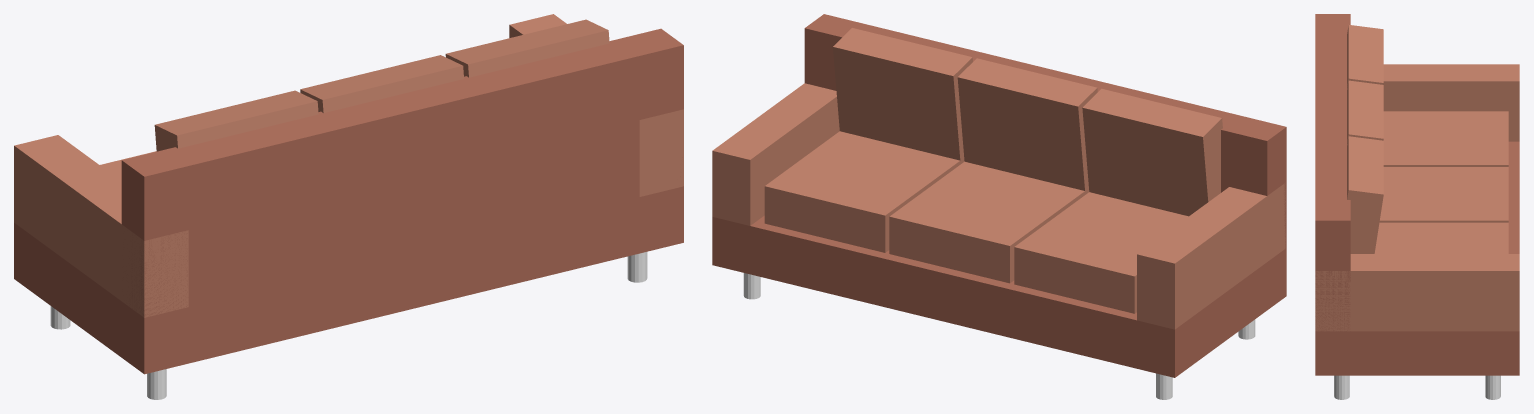
The model's file is sofa.glb.
3 renders of one model, left to right at view 1: azimuth 30°, elevation 25°; view 2: azimuth 150°, elevation 25°; view 3: azimuth 270°, elevation 25°, orthographic. The views are drawn at different scales.
Visible parts, largest first — view 1: SM_Sofa_BackFrame, SM_Sofa_Base, SM_Sofa_Arm, SM_Sofa_BackCushion, SM_Sofa_BackCushion.002, SM_Sofa_BackCushion.001, SM_Sofa_Arm.001, SM_Sofa_Leg.002; view 2: SM_Sofa_Base, SM_Sofa_SeatCushion.001, SM_Sofa_SeatCushion.002, SM_Sofa_BackCushion, SM_Sofa_BackCushion.002, SM_Sofa_BackCushion.001, SM_Sofa_Arm, SM_Sofa_SeatCushion, SM_Sofa_BackFrame, SM_Sofa_Arm.001; view 3: SM_Sofa_Arm.001, SM_Sofa_Base, SM_Sofa_BackFrame, SM_Sofa_SeatCushion.001, SM_Sofa_SeatCushion, SM_Sofa_Arm, SM_Sofa_SeatCushion.002, SM_Sofa_BackCushion.002, SM_Sofa_BackCushion.001, SM_Sofa_BackCushion, SM_Sofa_Leg.002, SM_Sofa_Leg.003.
Boxes of the visible parts, x1=… form: SM_Sofa_BackFrame: x1=121, y1=28, x2=683, y2=316; SM_Sofa_Base: x1=14, y1=186, x2=683, y2=374; SM_Sofa_Arm: x1=14, y1=135, x2=188, y2=317; SM_Sofa_BackCushion: x1=154, y1=90, x2=318, y2=151; SM_Sofa_BackCushion.002: x1=445, y1=19, x2=609, y2=77; SM_Sofa_BackCushion.001: x1=300, y1=55, x2=463, y2=113; SM_Sofa_Arm.001: x1=509, y1=14, x2=683, y2=196; SM_Sofa_Leg.002: x1=627, y1=252, x2=647, y2=282; SM_Sofa_Base: x1=712, y1=215, x2=1286, y2=377; SM_Sofa_SeatCushion.001: x1=889, y1=161, x2=1089, y2=283; SM_Sofa_SeatCushion.002: x1=764, y1=131, x2=964, y2=252; SM_Sofa_BackCushion: x1=1082, y1=88, x2=1222, y2=216; SM_Sofa_BackCushion.002: x1=833, y1=28, x2=972, y2=162; SM_Sofa_BackCushion.001: x1=957, y1=58, x2=1097, y2=190; SM_Sofa_Arm: x1=1137, y1=183, x2=1285, y2=329; SM_Sofa_SeatCushion: x1=1014, y1=192, x2=1188, y2=313; SM_Sofa_BackFrame: x1=804, y1=14, x2=1286, y2=248; SM_Sofa_Arm.001: x1=712, y1=83, x2=839, y2=225; SM_Sofa_Arm.001: x1=1315, y1=254, x2=1519, y2=331; SM_Sofa_Base: x1=1315, y1=141, x2=1519, y2=375; SM_Sofa_BackFrame: x1=1315, y1=14, x2=1350, y2=331; SM_Sofa_SeatCushion.001: x1=1379, y1=167, x2=1508, y2=222; SM_Sofa_SeatCushion: x1=1383, y1=111, x2=1508, y2=166; SM_Sofa_Arm: x1=1383, y1=64, x2=1519, y2=141; SM_Sofa_SeatCushion.002: x1=1374, y1=222, x2=1508, y2=253; SM_Sofa_BackCushion.002: x1=1347, y1=136, x2=1383, y2=253; SM_Sofa_BackCushion.001: x1=1347, y1=80, x2=1383, y2=143; SM_Sofa_BackCushion: x1=1347, y1=25, x2=1383, y2=88; SM_Sofa_Leg.002: x1=1334, y1=375, x2=1349, y2=399; SM_Sofa_Leg.003: x1=1485, y1=375, x2=1500, y2=399.
Bounding box in the file's own units: 2.2 × 0.9791 × 0.92.
